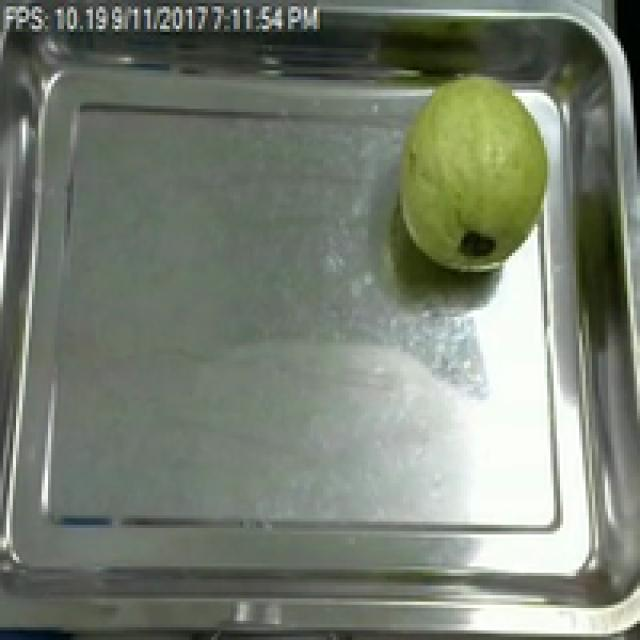Fruit: (384, 67, 573, 288)
